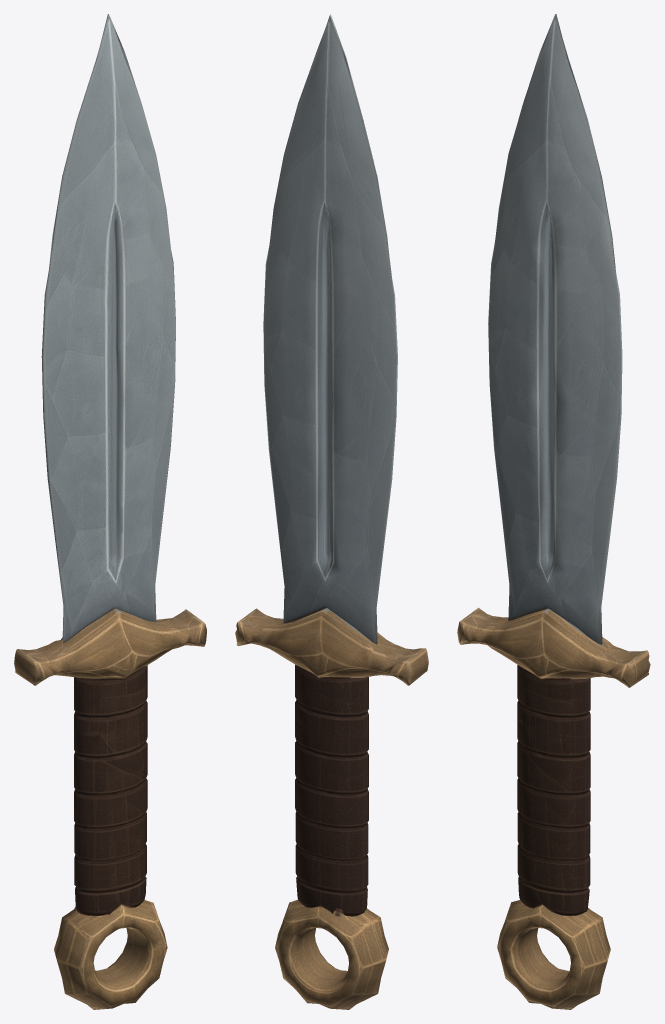
Rendered from last-knife-i1_i23d.glb.
3 views of the same model, side by side, from view 1: azimuth 30°, elevation 25°; view 2: azimuth 150°, elevation 25°; view 3: azimuth 330°, elevation 25° (orthographic).
Size of the model in its own units: 0.1772 by 0.9497 by 0.0566.
Materials: 1 (1 with a texture image).
